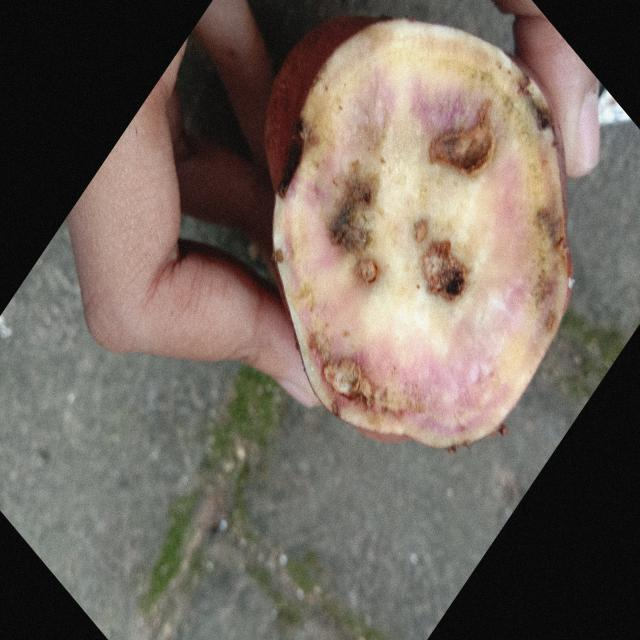Sick Sweet Potato_Tuber Rot: (265, 17, 572, 448)
